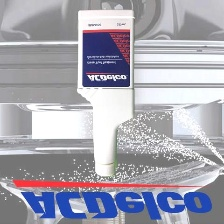cleaning_solution: (73, 5, 137, 178)
